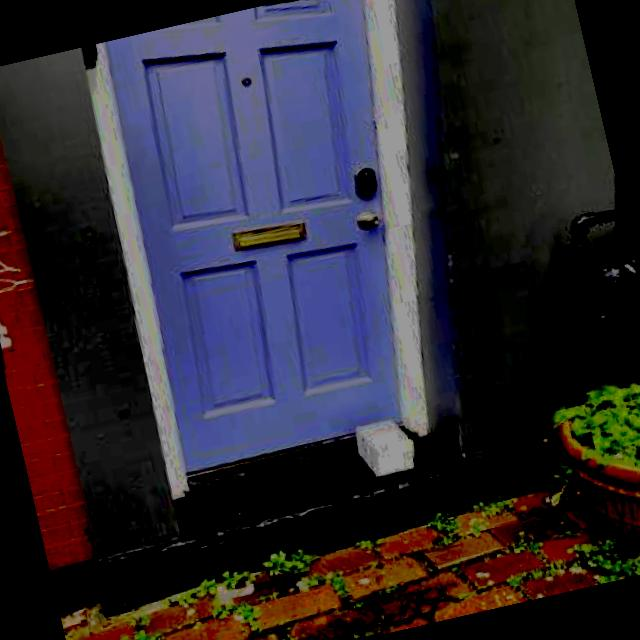Box: (341, 409, 426, 487)
